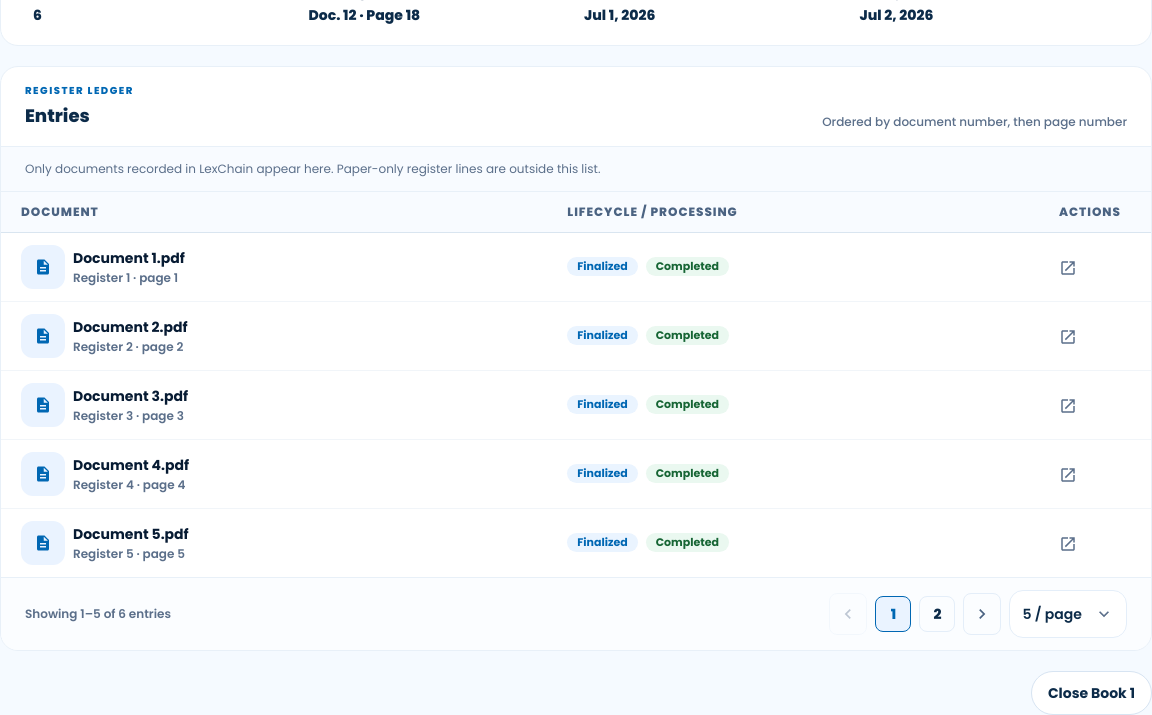
Test: BookRoutePage › paginates entries while preserving the API ordering on each page
The width and height of the screenshot is (1152, 715).
(page scrolled)
Expected: the link with aria-label "Open Document 1.pdf" is shown, [1,232,1151,300]
Expected: the link with aria-label "Open Document 5.pdf" is shown, [1,508,1151,576]
Click the button named "Page 2": (937, 614) [919,596,955,632]
(page scrolled)
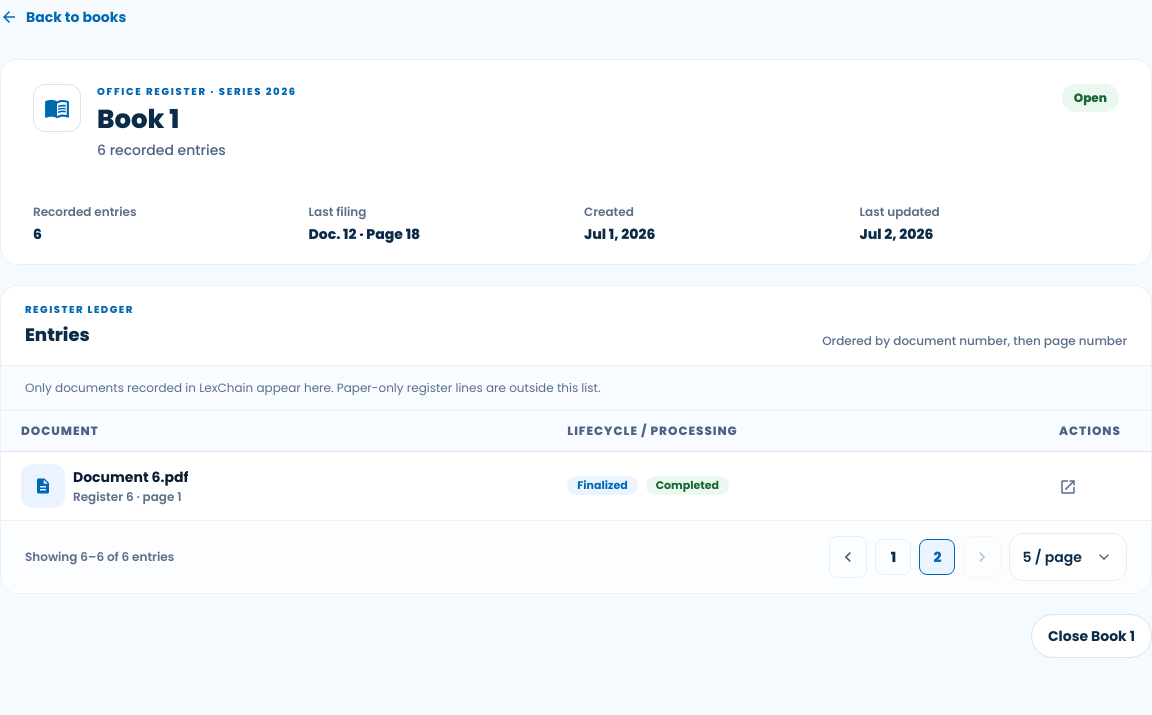
Result: the link with aria-label "Open Document 6.pdf" is shown at [1,452,1151,520]
Result: the text "Showing 6–6 of 6 entries" is shown at [25,548,174,564]
Click the button named "Previous page": (848, 556) [829,536,867,578]
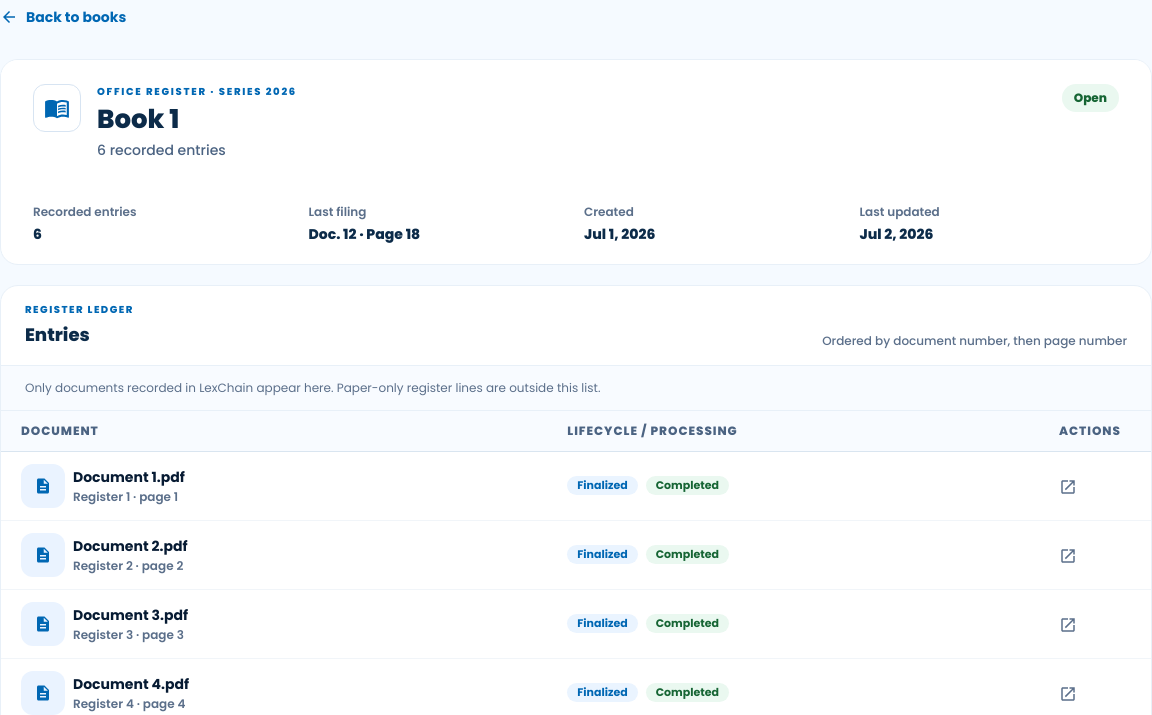
Result: the link with aria-label "Open Document 1.pdf" is shown at [1,452,1151,520]
